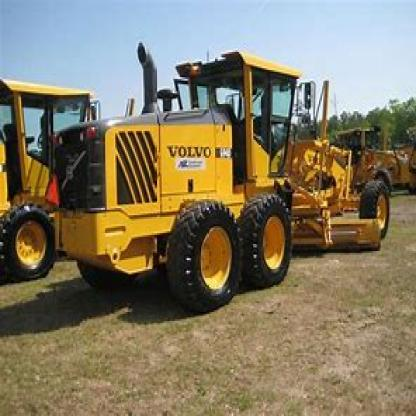bull_dozer/loader/grader: (45, 36, 395, 310)
